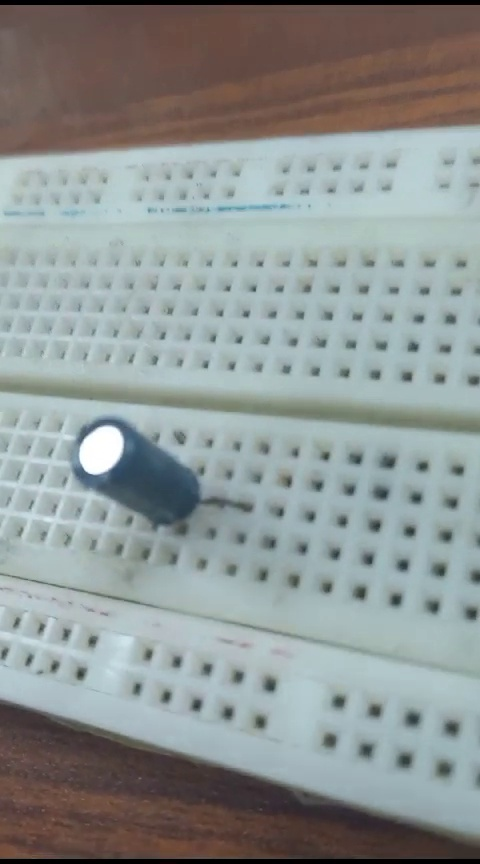capacitor: (74, 408, 218, 535)
